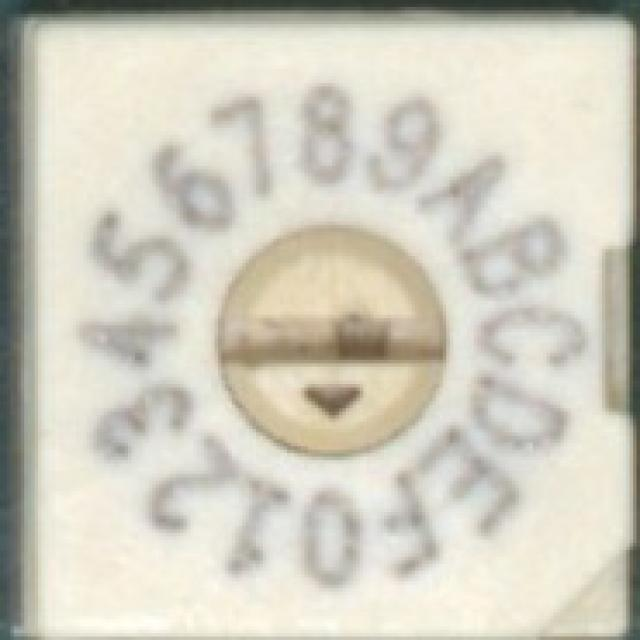potentiometer POT1: (14, 7, 640, 640)
